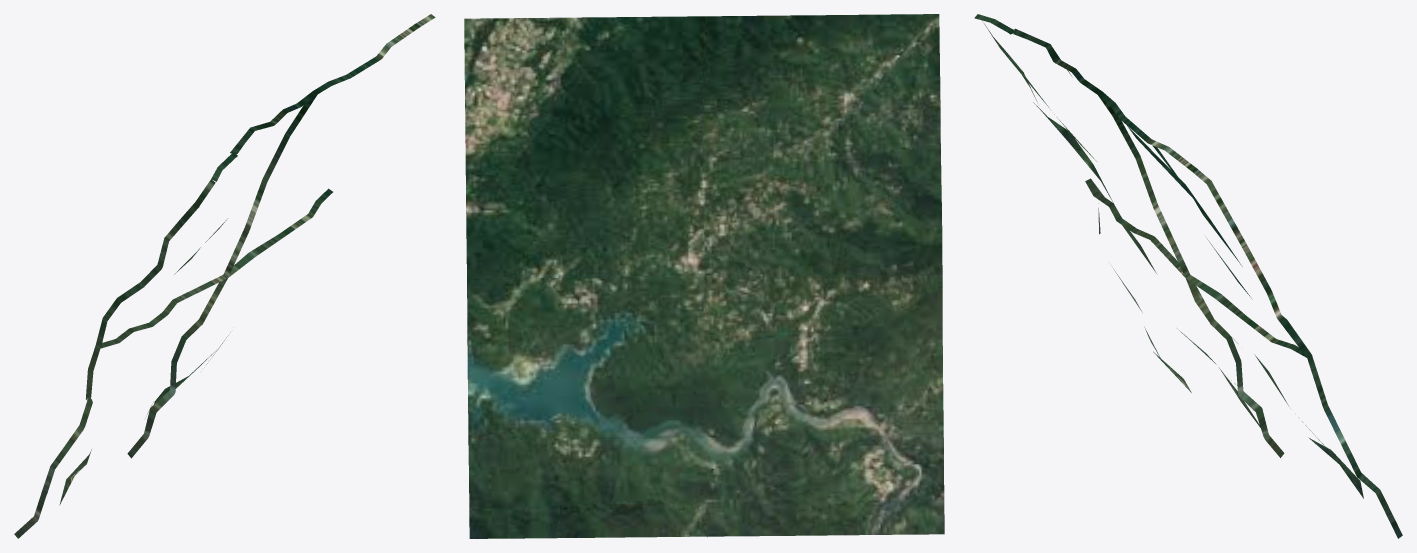
The picture shows the model from 3 angles, left to right: view 1: azimuth 30°, elevation 25°; view 2: azimuth 150°, elevation 25°; view 3: azimuth 270°, elevation 25°; orthographic projection. The views are drawn at different scales.
Size of the model in its own units: 10009 by 8997 by 8415.
Materials: 1 (1 with a texture image).
